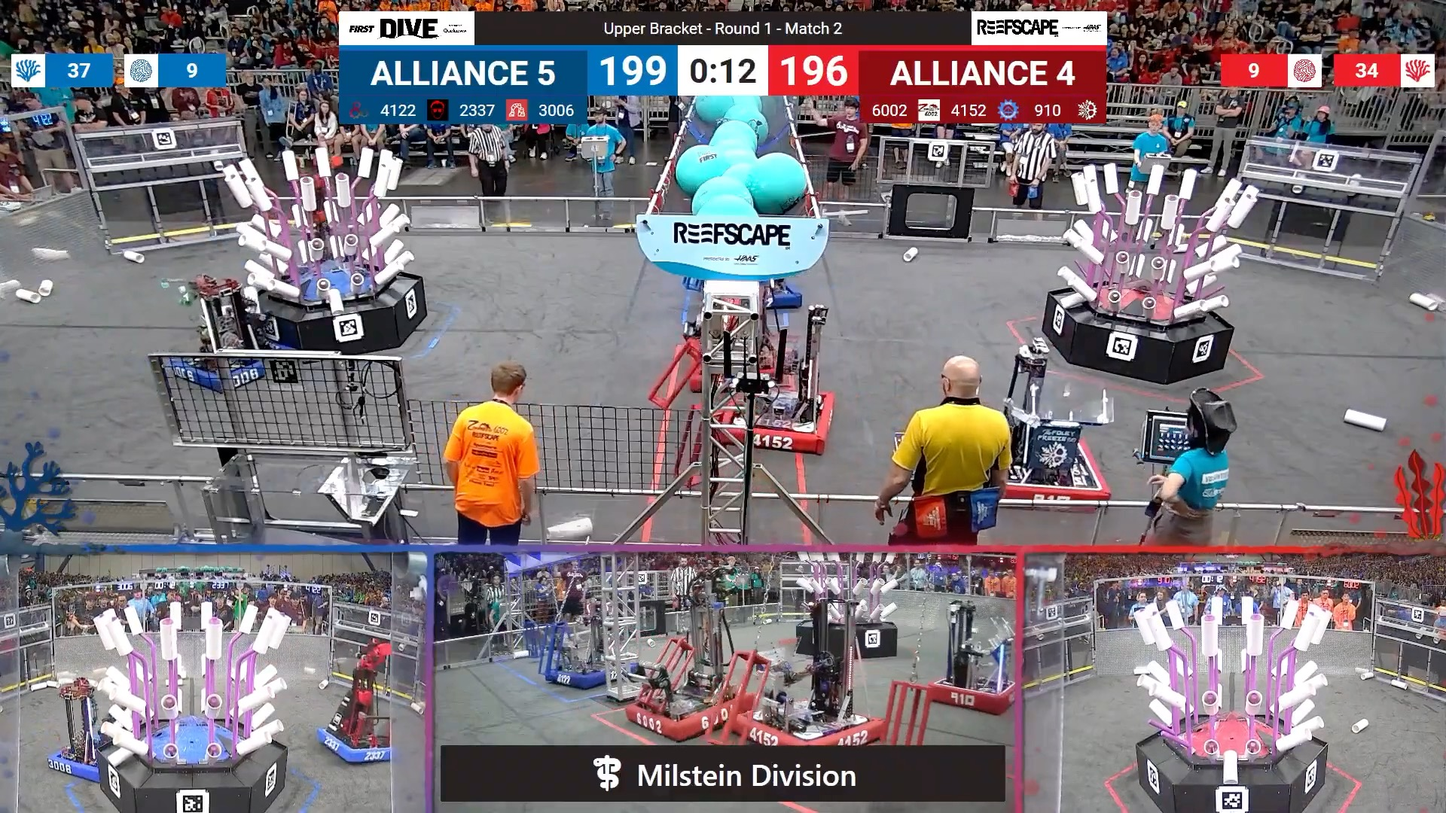bumpers: (990, 443, 1115, 515), (728, 389, 840, 456), (160, 347, 285, 394), (620, 692, 735, 735), (743, 714, 877, 747), (306, 725, 401, 771), (923, 674, 1024, 715), (44, 741, 135, 784), (538, 662, 622, 690), (752, 280, 807, 309)
